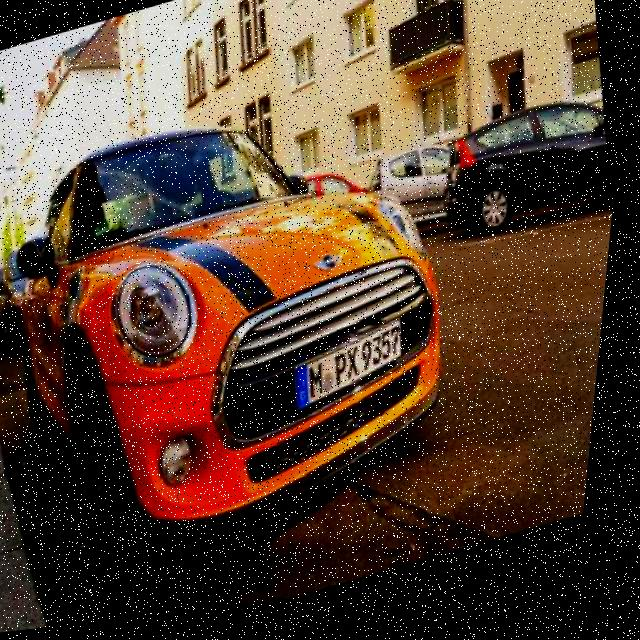license_plate: (294, 327, 420, 420)
